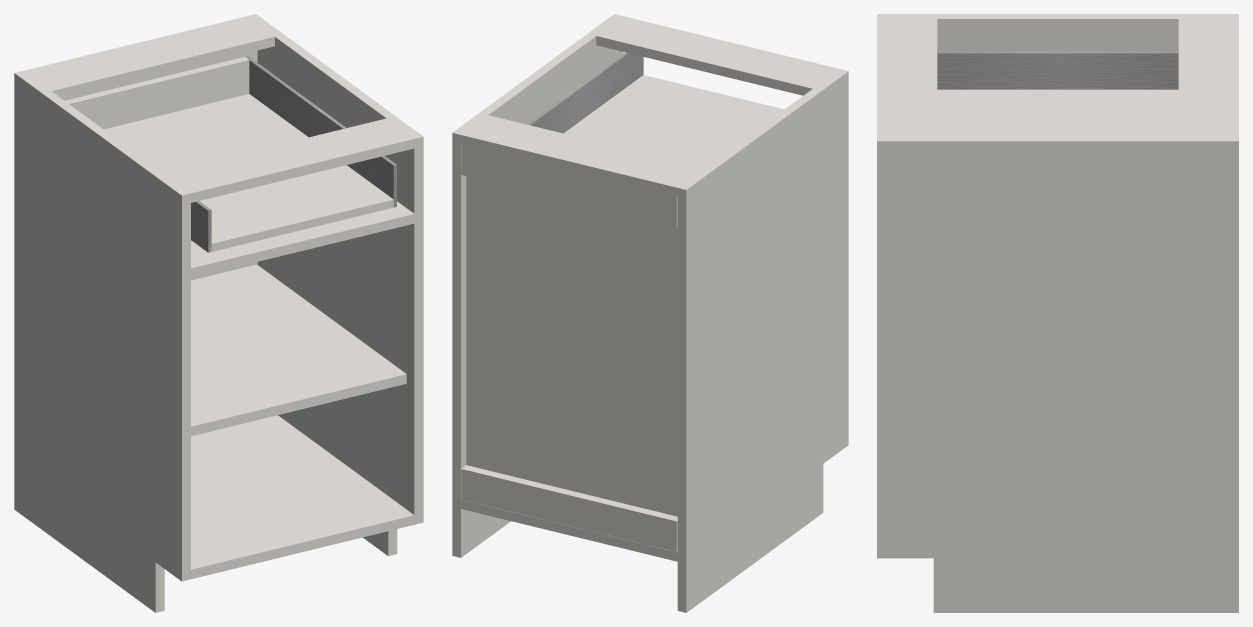
Rendered from 1_Door-1_Drawer-ND.glb.
3 renders of one model, left to right at view 1: azimuth 30°, elevation 25°; view 2: azimuth 150°, elevation 25°; view 3: azimuth 270°, elevation 25°, orthographic. The views are drawn at different scales.
Visible parts, largest first — view 1: Geom3D_UEnd (L)-A (×2), Geom3D_UEnd (R)-G (×2), Geom3D_Bottom-B (×2), Geom3D_Adjustable Shelf-I (×2), Geom3D_Drw Bottom, Geom3D_Front Stretcher-E (×2), Geom3D_Rear Stretcher-D, Geom3D_Drw Back (×2), Geom3D_Drw Stretcher-F (×2), Geom3D_Drw R Side, Geom3D_UBack-C, Geom3D_Drw L Side; view 2: Geom3D_UEnd (L)-A, Geom3D_UBack-C, Geom3D_Nailer-H (×2), Geom3D_UEnd (R)-G, Geom3D_Drw Bottom, Geom3D_Rear Stretcher-D, Geom3D_Front Stretcher-E, Geom3D_Drw R Side, Geom3D_Bottom-B; view 3: Geom3D_UEnd (R)-G, Geom3D_Drw Bottom, Geom3D_UEnd (L)-A, Geom3D_Drw L Side, Geom3D_Front Stretcher-E, Geom3D_Rear Stretcher-D.
Boxes of the visible parts, x1,y1,x2,y2 form: Geom3D_UEnd (L)-A (×2): [14, 71, 190, 612]; Geom3D_UEnd (R)-G (×2): [247, 14, 423, 556]; Geom3D_Bottom-B (×2): [191, 415, 414, 579]; Geom3D_Adjustable Shelf-I (×2): [191, 264, 406, 436]; Geom3D_Drw Bottom: [104, 94, 393, 252]; Geom3D_Front Stretcher-E (×2): [163, 118, 414, 202]; Geom3D_Rear Stretcher-D: [24, 16, 274, 98]; Geom3D_Drw Back (×2): [65, 57, 249, 129]; Geom3D_Drw Stretcher-F (×2): [191, 201, 414, 277]; Geom3D_Drw R Side: [245, 56, 396, 207]; Geom3D_UBack-C: [61, 50, 257, 280]; Geom3D_Drw L Side: [191, 201, 211, 252]; Geom3D_UEnd (L)-A: [677, 69, 848, 612]; Geom3D_UBack-C: [466, 176, 677, 516]; Geom3D_Nailer-H (×2): [461, 144, 677, 551]; Geom3D_UEnd (R)-G: [452, 14, 623, 557]; Geom3D_Drw Bottom: [564, 75, 784, 167]; Geom3D_Rear Stretcher-D: [461, 115, 703, 196]; Geom3D_Front Stretcher-E: [596, 16, 839, 95]; Geom3D_Drw R Side: [527, 52, 643, 133]; Geom3D_Bottom-B: [456, 498, 681, 562]; Geom3D_UEnd (R)-G: [877, 136, 1238, 612]; Geom3D_Drw Bottom: [937, 89, 1178, 136]; Geom3D_UEnd (L)-A: [877, 14, 1238, 51]; Geom3D_Drw L Side: [937, 51, 1178, 89]; Geom3D_Front Stretcher-E: [877, 19, 937, 136]; Geom3D_Rear Stretcher-D: [1178, 19, 1238, 136].
Bounding box in the file's own units: 0.508 × 0.8763 × 0.6096.
2 materials, 2 textured.
